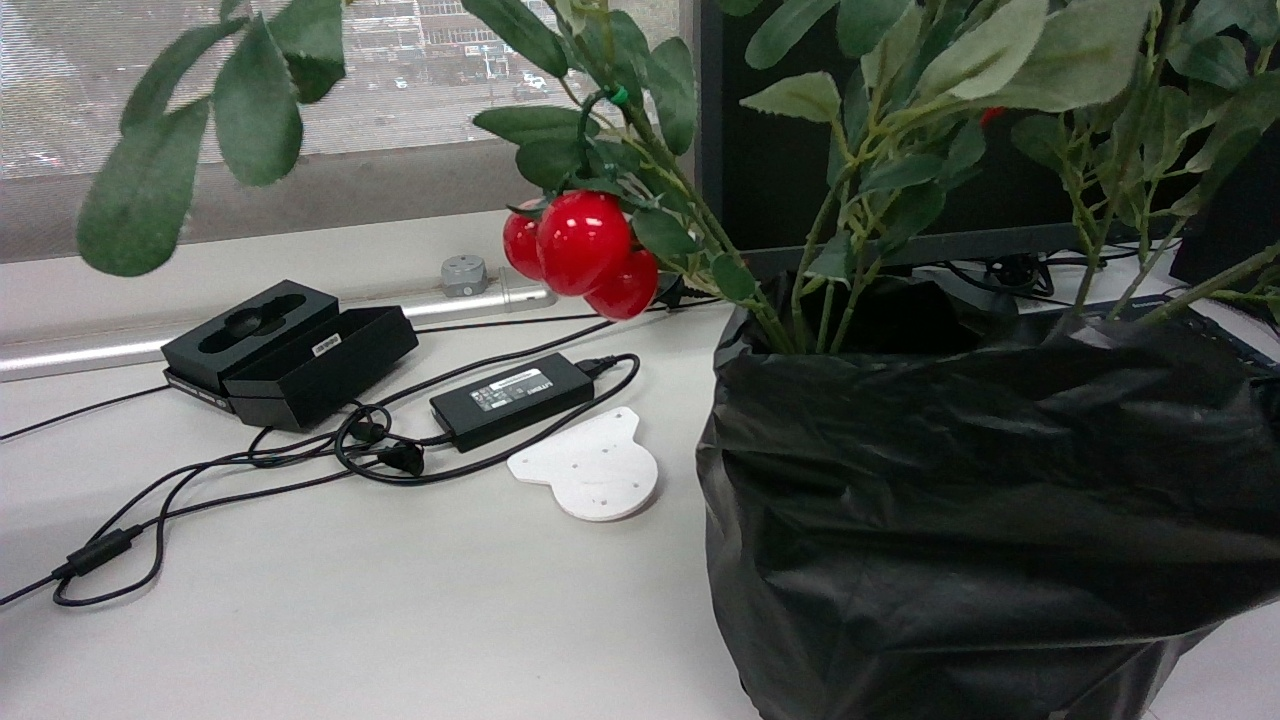peduncle: (576, 87, 608, 133)
strawberry: (536, 188, 631, 294), (585, 246, 658, 320), (503, 211, 544, 280)
